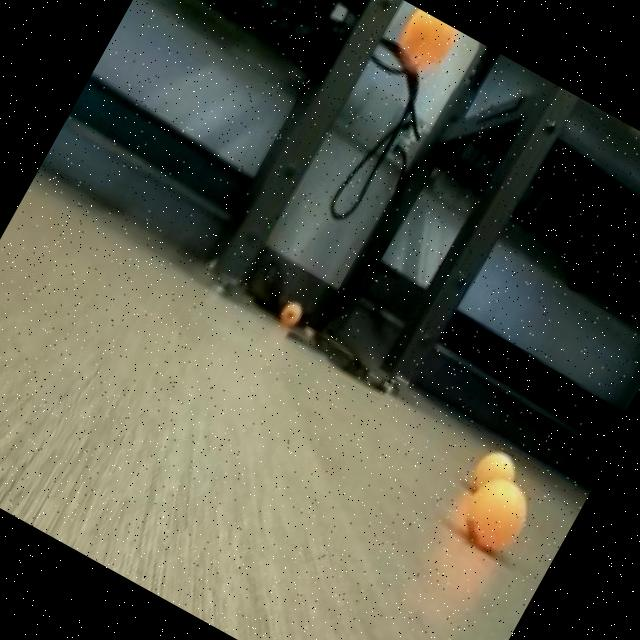ping-pong-ball: (447, 464, 542, 565), (387, 7, 462, 82), (462, 439, 522, 504), (274, 288, 312, 330)
